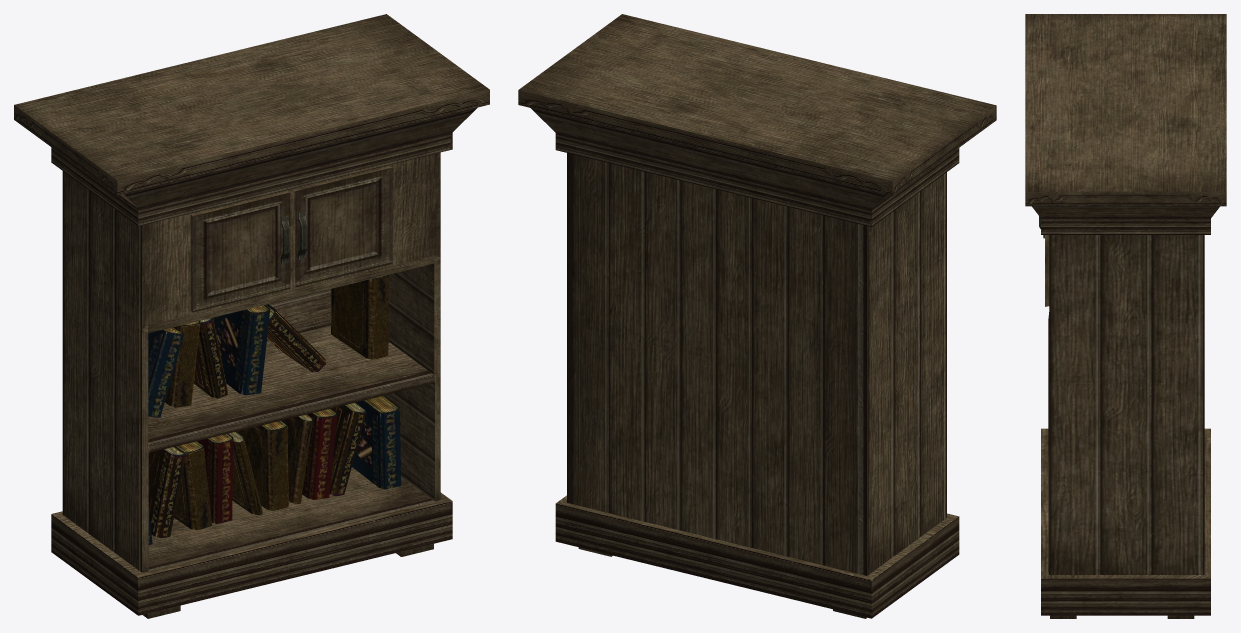
File: GS_VOB_BOOKCASE_BROWN_02_KOZA.glb
3 views of the same model, side by side, from view 1: azimuth 30°, elevation 25°; view 2: azimuth 150°, elevation 25°; view 3: azimuth 270°, elevation 25° (orthographic). The views are drawn at different scales.
Parts seen in each view (by area): view 1: GS_VOB_BOOKCASE_BROWN_02_KOZA; view 2: GS_VOB_BOOKCASE_BROWN_02_KOZA; view 3: GS_VOB_BOOKCASE_BROWN_02_KOZA.
Boxes of the visible parts, x1=… form: GS_VOB_BOOKCASE_BROWN_02_KOZA: x1=14, y1=14, x2=489, y2=618; GS_VOB_BOOKCASE_BROWN_02_KOZA: x1=518, y1=14, x2=996, y2=618; GS_VOB_BOOKCASE_BROWN_02_KOZA: x1=1025, y1=14, x2=1226, y2=618.
Bounding box in the file's own units: 1.41 × 1.66 × 0.6779.
4 materials, 4 textured.
